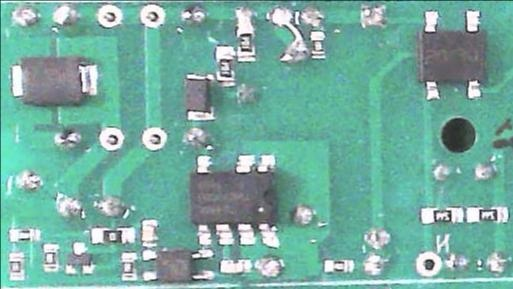chip-capacitor: (218, 256, 252, 275), (141, 216, 160, 246)
chip-resistor: (465, 204, 509, 225), (419, 205, 463, 226), (215, 45, 236, 86), (91, 225, 136, 244), (237, 24, 257, 62), (6, 249, 27, 282), (320, 258, 355, 275), (6, 226, 41, 243), (120, 250, 139, 281), (41, 241, 60, 272), (309, 29, 326, 59)
diode: (9, 53, 100, 106), (183, 70, 216, 123)
ic: (190, 151, 281, 247), (417, 6, 488, 103), (139, 246, 215, 284)
transistor: (62, 240, 94, 278)
